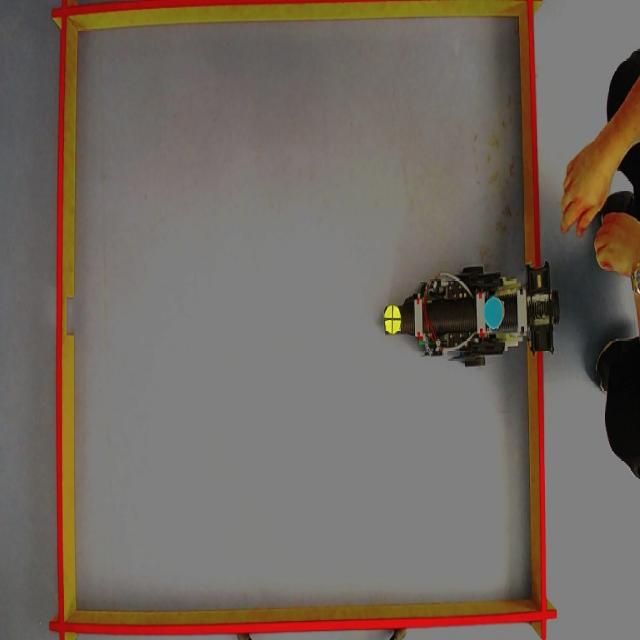robot: (386, 263, 558, 371)
robot-front: (384, 303, 402, 336)
robot-rear: (484, 293, 504, 329)
